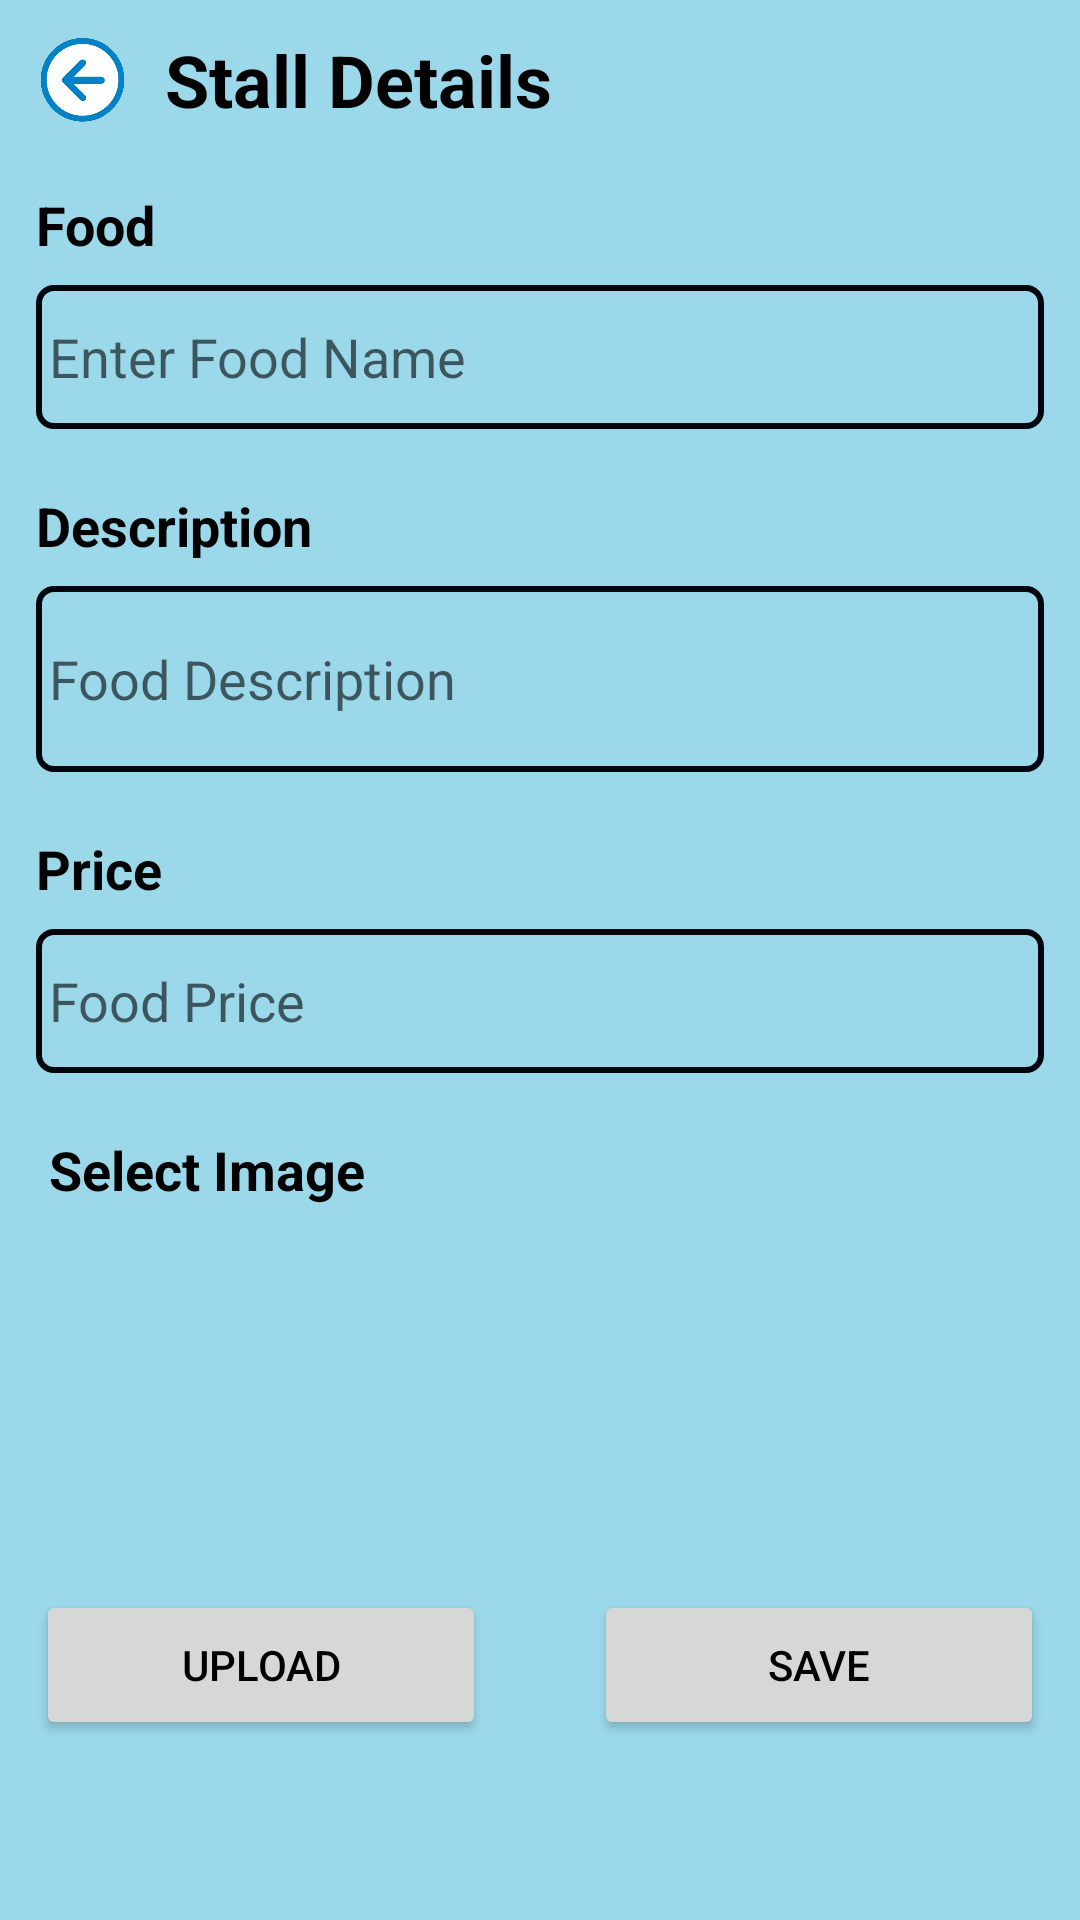

Named icons in this screenshot (1080x1920) and their bounding boxes, bbox=[x1, y1, x2, y2]:
backbuttonn: bbox=[41, 38, 124, 122]
